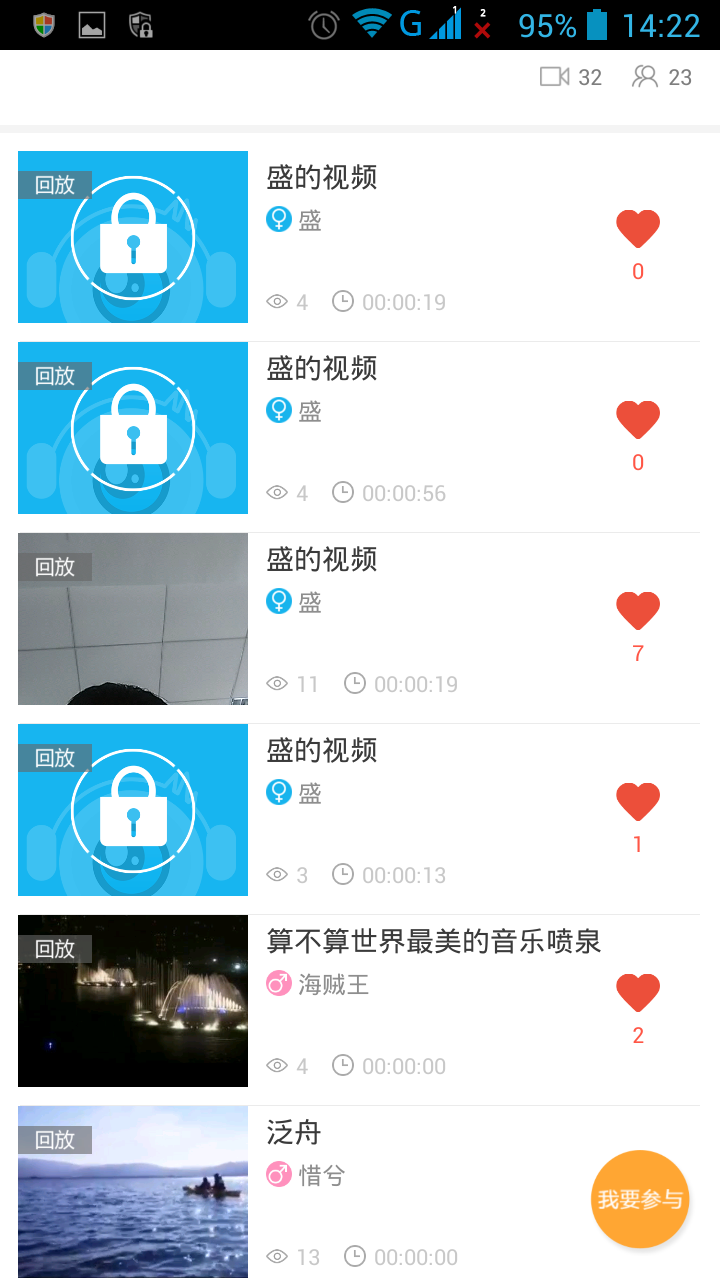imgbutton: (605, 203, 677, 260)
